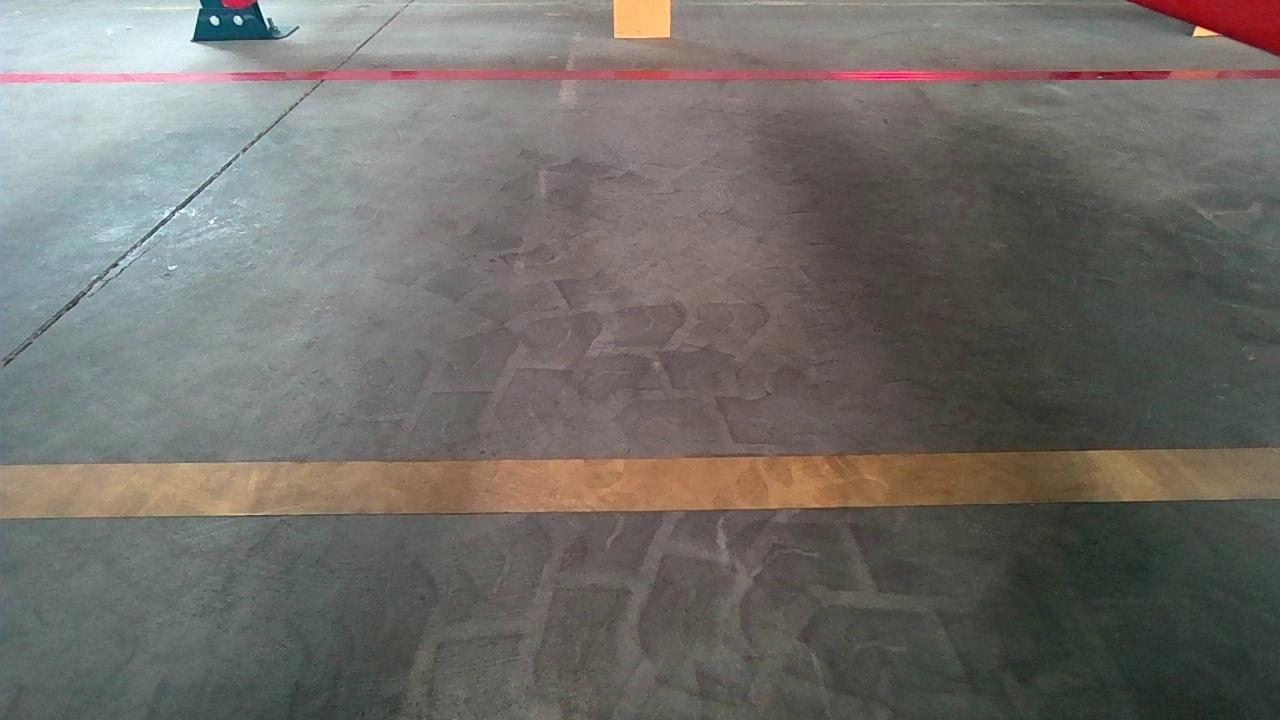orange_strip: (612, 0, 672, 40)
yellow_line: (0, 444, 1271, 522)
